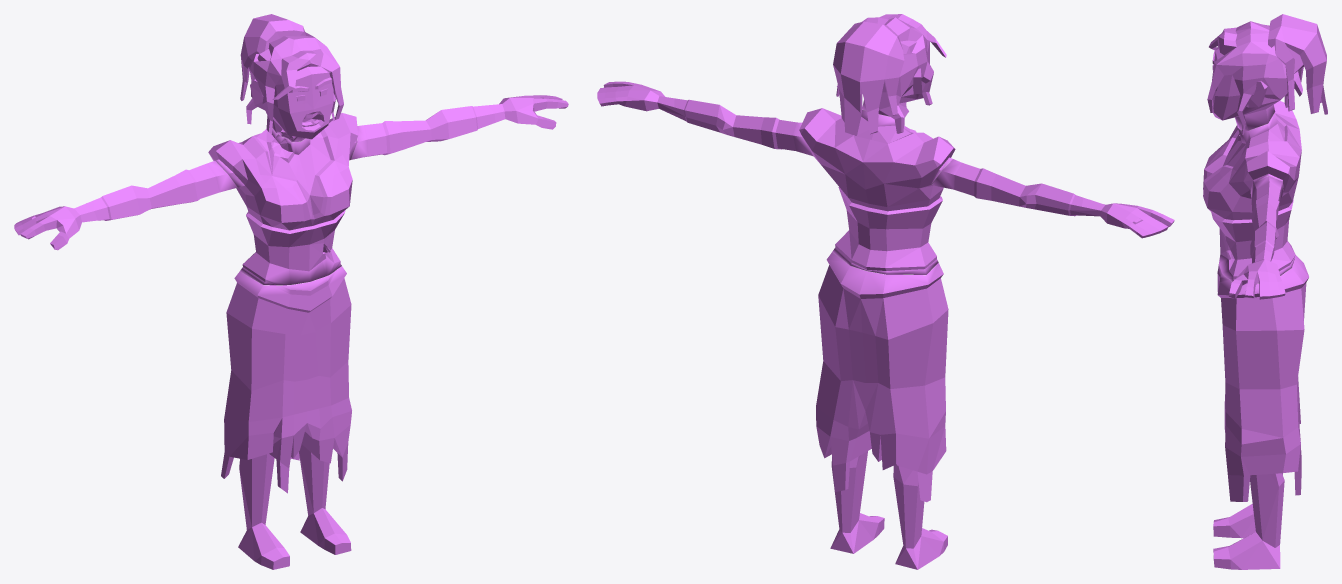
File: FinalZombieBrideFemale.fbx
3 renders of one model, left to right at view 1: azimuth 30°, elevation 25°; view 2: azimuth 150°, elevation 25°; view 3: azimuth 270°, elevation 25°, orthographic. The views are drawn at different scales.
Parts seen in each view (by area): view 1: Legs, Body, Head, RightArm, LeftArm; view 2: Legs, Body, Head, RightArm, LeftArm; view 3: Legs, Head, Body, LeftArm.
Boxes of the visible parts, x1,y1,x2,y2 form: Legs: [221, 266, 351, 569]; Body: [208, 113, 358, 285]; Head: [240, 14, 343, 141]; RightArm: [14, 161, 237, 250]; LeftArm: [351, 95, 568, 159]; Legs: [816, 252, 948, 569]; Body: [799, 108, 955, 274]; Head: [833, 14, 946, 135]; RightArm: [932, 159, 1174, 238]; LeftArm: [597, 81, 812, 155]; Legs: [1213, 255, 1308, 569]; Head: [1207, 14, 1327, 134]; Body: [1203, 101, 1301, 283]; LeftArm: [1228, 176, 1285, 299].
Bounding box in the file's own units: 204 × 185 × 39.52.
